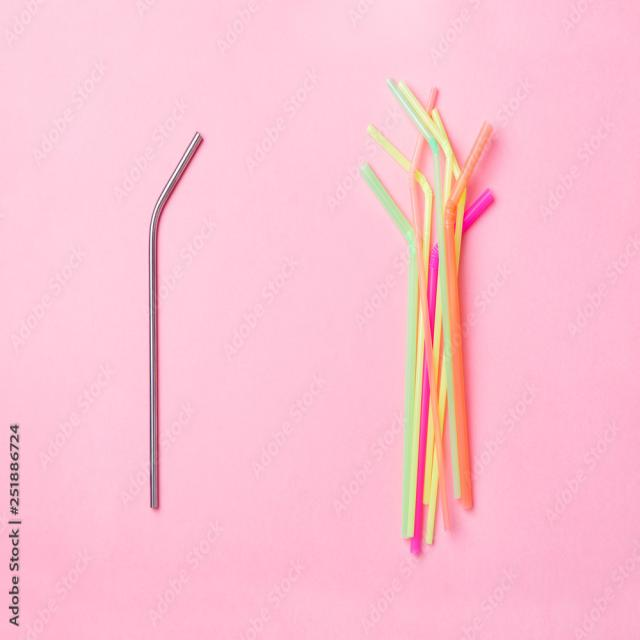plastic: (440, 115, 511, 518)
